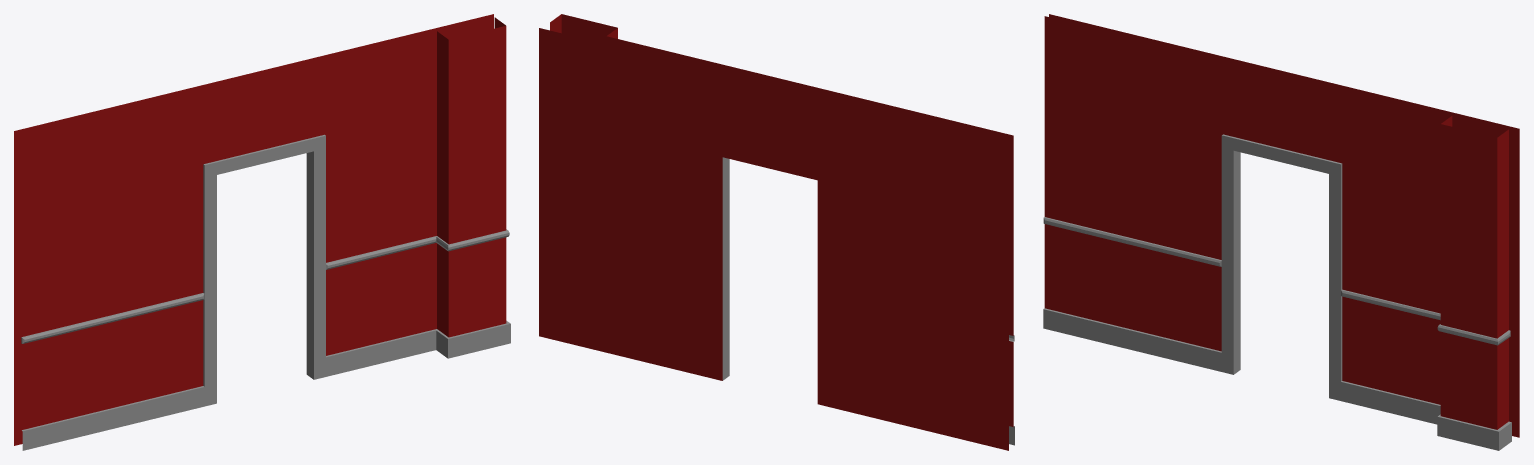
Rendered from wallSection.FBX.
3 views of the same model, side by side, from view 1: azimuth 30°, elevation 25°; view 2: azimuth 150°, elevation 25°; view 3: azimuth 330°, elevation 25° (orthographic). The views are drawn at different scales.
Visible parts, largest first — view 1: WallSection; view 2: WallSection; view 3: WallSection.
Part boxes in pixels (x1,y1,x2,y2): WallSection: (14, 14, 510, 450); WallSection: (539, 14, 1014, 450); WallSection: (1043, 14, 1519, 450).
Bounding box in the file's own units: 395 × 27.14 × 250.
